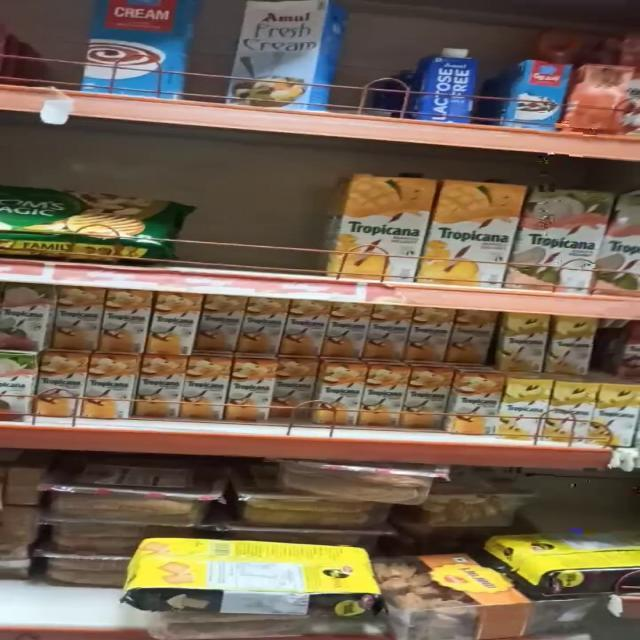Tropicana: (328, 171, 426, 276), (514, 188, 605, 294), (429, 175, 512, 284), (96, 286, 154, 352), (36, 351, 88, 422), (443, 373, 496, 436), (192, 291, 242, 354), (235, 295, 288, 353), (87, 355, 135, 419), (54, 288, 106, 347), (492, 316, 548, 370), (148, 292, 199, 350), (134, 360, 182, 420), (552, 382, 596, 446), (271, 362, 322, 417), (364, 303, 414, 357), (276, 300, 322, 358), (317, 364, 363, 422), (501, 380, 548, 436), (594, 386, 640, 439), (552, 315, 594, 373), (443, 306, 486, 360), (185, 358, 222, 420), (231, 361, 268, 422), (317, 306, 363, 354), (406, 308, 449, 358), (406, 372, 446, 422), (370, 369, 404, 425)
